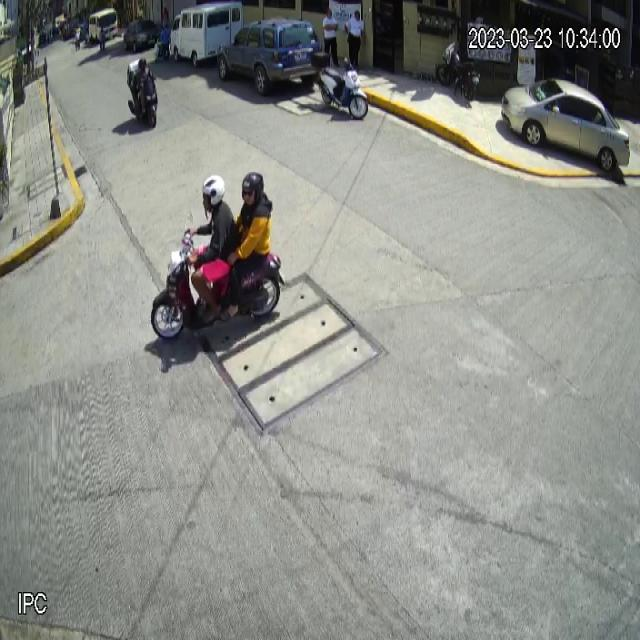Car: (501, 79, 631, 172), (216, 16, 322, 96)
Motorcycle: (149, 212, 288, 345), (311, 51, 368, 121)
Van: (169, 0, 243, 67)
